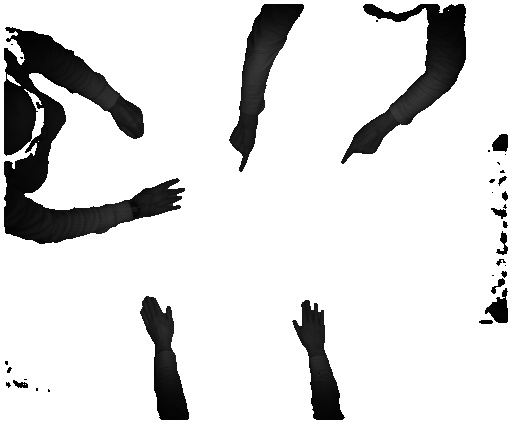fist: (111, 98, 143, 143)
hand: (336, 118, 390, 167), (135, 176, 191, 223), (288, 298, 327, 358), (224, 117, 263, 175), (136, 296, 175, 349)
